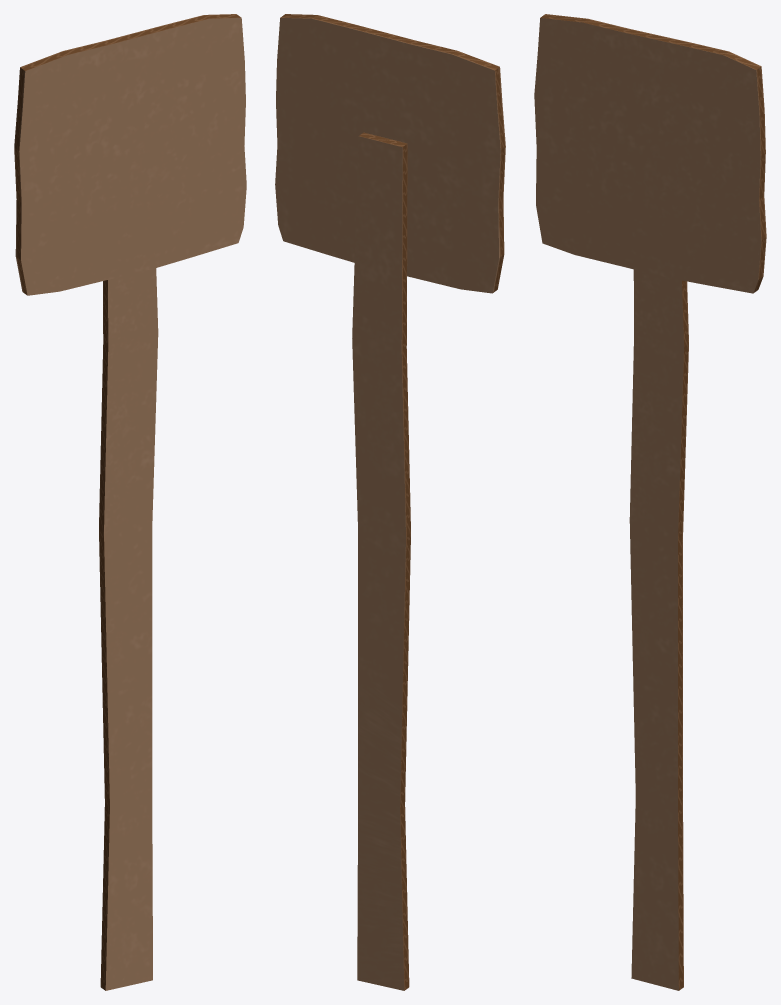
Rendered from letreroCircular.fbx.
3 renders of one model, left to right at view 1: azimuth 30°, elevation 25°; view 2: azimuth 150°, elevation 25°; view 3: azimuth 330°, elevation 25°, orthographic.
Visible parts, largest first — view 1: letreroCuadrado, Palo; view 2: letreroCuadrado, Palo; view 3: letreroCuadrado, Palo.
Part boxes in pixels (left/top/right/bottom): letreroCuadrado: left=14, top=14, right=246, bottom=295; Palo: left=99, top=268, right=158, bottom=990; letreroCuadrado: left=275, top=14, right=505, bottom=293; Palo: left=352, top=132, right=410, bottom=990; letreroCuadrado: left=534, top=14, right=766, bottom=293; Palo: left=629, top=269, right=688, bottom=990.
Size of the model in its own units: 10.1 by 40.46 by 0.8154.
2 materials, 2 textured.
